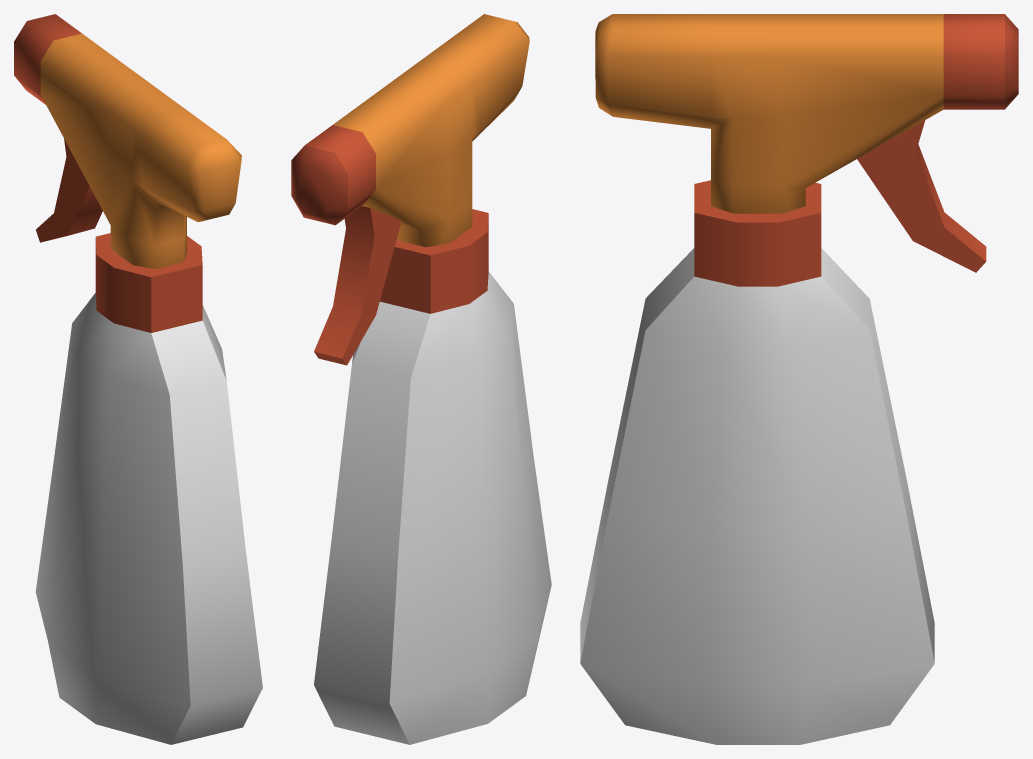
File: SpaceCleaner.fbx
3 renders of one model, left to right at view 1: azimuth 30°, elevation 25°; view 2: azimuth 150°, elevation 25°; view 3: azimuth 270°, elevation 25°, orthographic. The views are drawn at different scales.
Visible parts, largest first — view 1: SpaceCleaner; view 2: SpaceCleaner; view 3: SpaceCleaner.
Part boxes in pixels (<box>): SpaceCleaner: <box>14,14,262,744</box>; SpaceCleaner: <box>291,14,551,744</box>; SpaceCleaner: <box>580,14,1018,744</box>.
Bounding box in the file's own units: 0.0944 × 0.351 × 0.2042.
